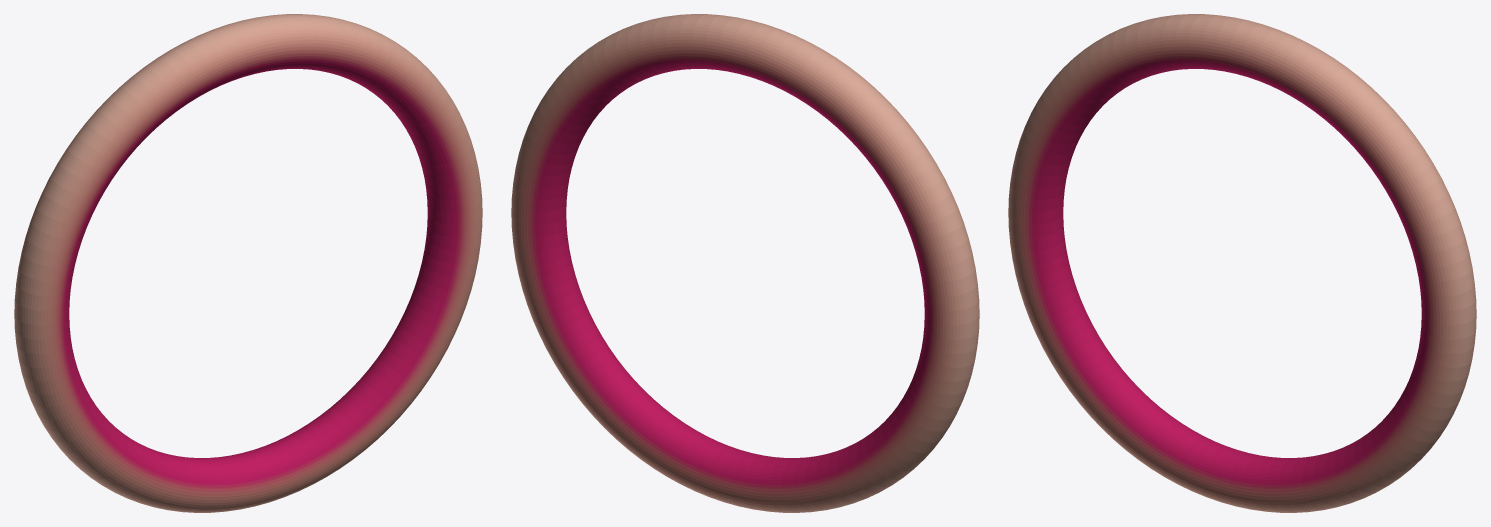
3 renders of one model, left to right at view 1: azimuth 30°, elevation 25°; view 2: azimuth 150°, elevation 25°; view 3: azimuth 330°, elevation 25°, orthographic.
Visible parts, largest first — view 1: world; view 2: world; view 3: world.
Part boxes in pixels (x1,y1,x2,y2): world: (14, 14, 482, 512); world: (511, 14, 979, 512); world: (1008, 14, 1476, 512).
Bounding box in the file's own units: 24.53 × 24.53 × 2.53.
